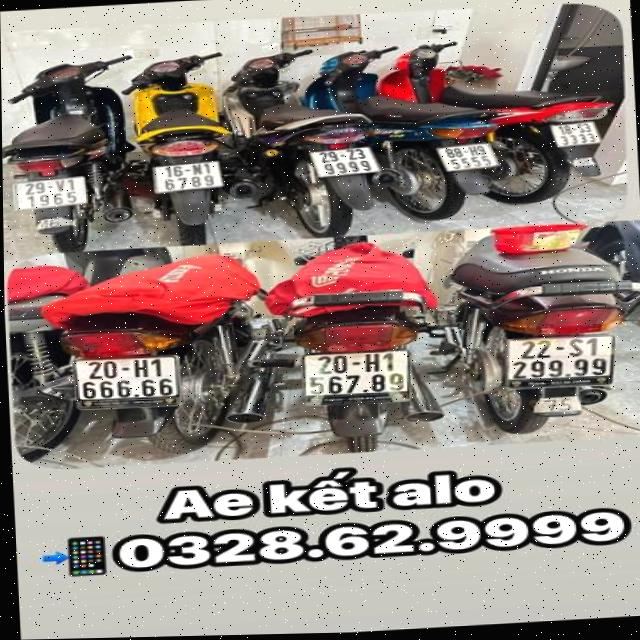motorcycle: (10, 240, 265, 482), (240, 264, 470, 467), (292, 32, 512, 233), (387, 27, 622, 212), (439, 247, 640, 443), (229, 37, 384, 251), (1, 47, 135, 256), (119, 45, 248, 247)
plate: (495, 326, 626, 390), (294, 344, 411, 403), (67, 351, 185, 408), (12, 174, 93, 214), (148, 156, 226, 196), (307, 142, 384, 181), (431, 137, 503, 175), (546, 118, 605, 150)
